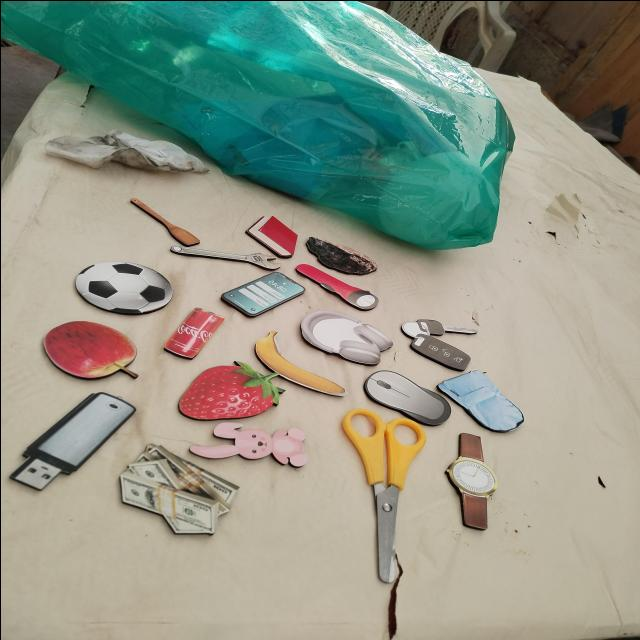Other Objects: (0, 384, 143, 499), (341, 407, 426, 582), (119, 442, 239, 534), (434, 429, 511, 532), (66, 253, 180, 321), (435, 362, 533, 440), (355, 363, 460, 431), (254, 329, 346, 396), (188, 420, 308, 467), (43, 320, 137, 378), (299, 309, 393, 365), (287, 260, 382, 313), (219, 264, 307, 321), (296, 232, 382, 282), (127, 192, 201, 249), (400, 317, 477, 370), (168, 237, 282, 270), (162, 306, 225, 358)
